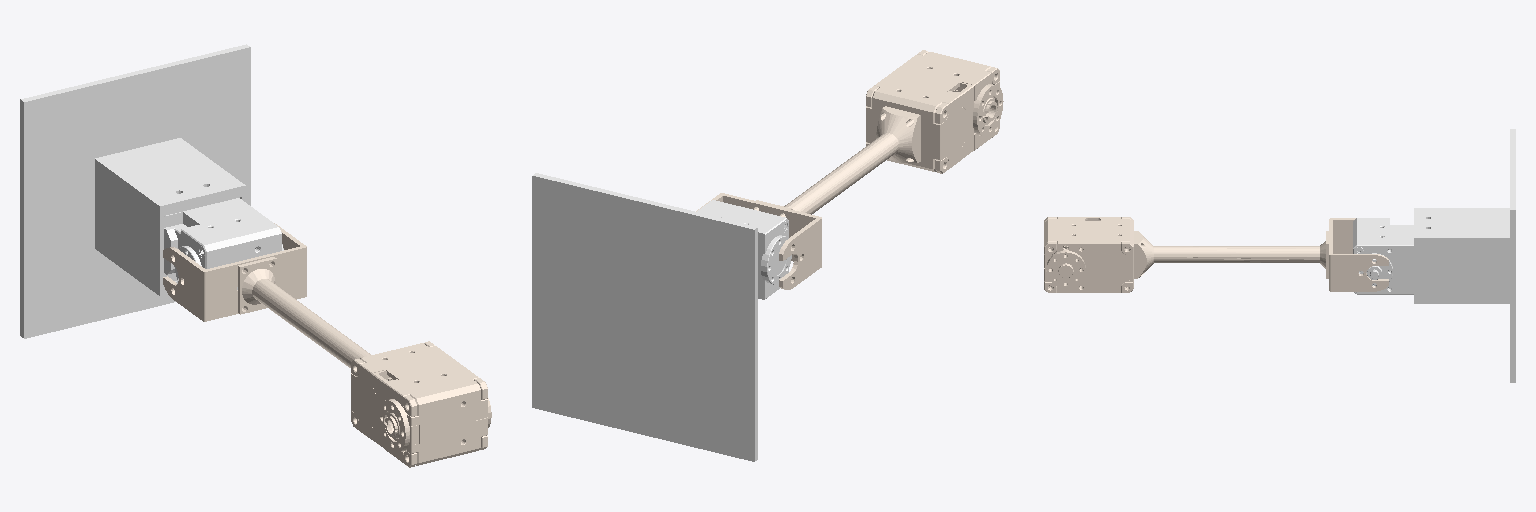
The robot description file, URDF, robot "mppi":
<?xml version="1.0" encoding="utf-8"?>
<!-- This URDF was automatically created by SolidWorks to URDF Exporter! Originally created by [author] ([email redacted]) 
     Commit Version: 1.6.0-4-g7f85cfe  Build Version: 1.6.7995.38578
     For more information, please see http://wiki.ros.org/sw_urdf_exporter -->
<robot
  name="mppi">
  <link
    name="base_link">
    <inertial>
      <origin
        xyz="0.000188268183171825 -0.0310733488289291 -8.49482063759173E-05"
        rpy="0 0 0" />
      <mass
        value="0.130648831366131" />
      <inertia
        ixx="6.10981574033943E-05"
        ixy="-1.18102281220313E-09"
        ixz="8.32028477274158E-18"
        iyy="7.26633562824158E-05"
        iyz="-1.83418924424448E-21"
        izz="6.21456866560917E-05" />
    </inertial>
    <visual>
      <origin
        xyz="0 0 0"
        rpy="0 0 0" />
      <geometry>
        <mesh
          filename="base_link.stl" />
      </geometry>
      <material
        name="">
        <color
          rgba="1 1 1 1" />
      </material>
    </visual>
    <collision>
      <origin
        xyz="0 0 0"
        rpy="0 0 0" />
      <geometry>
        <mesh
          filename="base_link.stl" />
      </geometry>
    </collision>
  </link>
  <link
    name="Link_1">
    <inertial>
      <origin
        xyz="-0.00162343119587027 -6.97756980404233E-06 -0.110519657603286"
        rpy="0 0 0" />
      <mass
        value="0.0688716456981545" />
      <inertia
        ixx="2.45070484705432E-05"
        ixy="-5.23177680888989E-09"
        ixz="2.55497410979275E-07"
        iyy="2.99449727269608E-05"
        iyz="4.41092570441378E-09"
        izz="1.21963011128793E-05" />
    </inertial>
    <visual>
      <origin
        xyz="0 0 0"
        rpy="0 0 0" />
      <geometry>
        <mesh
          filename="Link_1.stl" />
      </geometry>
      <material
        name="">
        <color
          rgba="1 0.949019607843137 0.898039215686275 1" />
      </material>
    </visual>
    <collision>
      <origin
        xyz="0 0 0"
        rpy="0 0 0" />
      <geometry>
        <mesh
          filename="Link_1.stl" />
      </geometry>
    </collision>
  </link>
  <joint
    name="Joint_1"
    type="continuous">
    <origin
      xyz="0 -0.0735 -0.000250000000000003"
      rpy="-1.5707963267949 0 0" />
    <parent
      link="base_link" />
    <child
      link="Link_1" />
    <axis
      xyz="1 0 0" />
  </joint>
  <link
    name="Link_2">
    <inertial>
      <origin
        xyz="-0.00195000000000316 3.93294338069117E-16 0.0203738024711327"
        rpy="0 0 0" />
      <mass
        value="0.00521037344424208" />
      <inertia
        ixx="6.73562569173527E-07"
        ixy="-8.90149055108561E-21"
        ixz="-9.37609510021427E-20"
        iyy="1.74752931998961E-06"
        iyz="-9.17755304799327E-21"
        izz="1.65399995368875E-06" />
    </inertial>
    <visual>
      <origin
        xyz="0 0 0"
        rpy="0 0 0" />
      <geometry>
        <mesh
          filename="Link_2.stl" />
      </geometry>
      <material
        name="">
        <color
          rgba="1 1 1 1" />
      </material>
    </visual>
    <collision>
      <origin
        xyz="0 0 0"
        rpy="0 0 0" />
      <geometry>
        <mesh
          filename="Link_2.stl" />
      </geometry>
    </collision>
  </link>
  <joint
    name="Joint_2"
    type="continuous">
    <origin
      xyz="0 0 -0.1608"
      rpy="3.14159265358979 0 0" />
    <parent
      link="Link_1" />
    <child
      link="Link_2" />
    <axis
      xyz="1 0 0" />
  </joint>
</robot>

--- What the picture shows (computed from the rendered views, not written in the file) ---
Views: 3 orthographic renders of the robot side by side, from view 1: azimuth 30°, elevation 25°; view 2: azimuth 150°, elevation 25°; view 3: azimuth 270°, elevation 25°.
Model mppi with 3 links and 2 joints (2 continuous), rooted at base_link, posed every joint at zero.
Links seen in each view (by area): view 1: base_link, Link_1; view 2: base_link, Link_1; view 3: base_link, Link_1.
Link boxes in pixels (x1,y1,x2,y2): base_link: (20,44,283,338); Link_1: (163,223,491,467); base_link: (532,173,791,461); Link_1: (696,50,1003,289); base_link: (1353,129,1515,382); Link_1: (1044,217,1388,292).
Size in the robot's own frame: 0.1 by 0.2456 by 0.1 metres.
Meshes: 3 distinct files referenced, 2 mesh visuals loaded (2 binary STL); not drawn: 1 (reference not matched to a file when rendering).